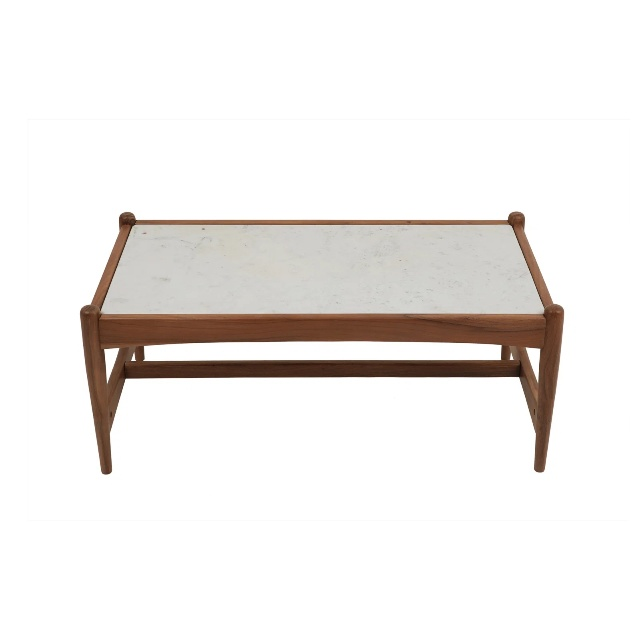obstacle: (81, 212, 563, 474)
